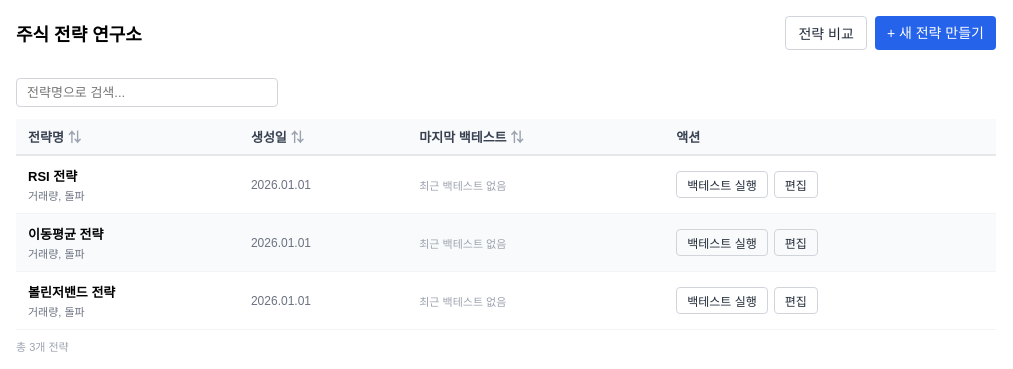
Scenario: StrategyListPage › 전략명 필터: 입력하면 일치하는 전략만 표시
In the field with test id "strategy-name-filter": (147, 93) top-left (16, 78), bottom-right (278, 107), type "RSI"
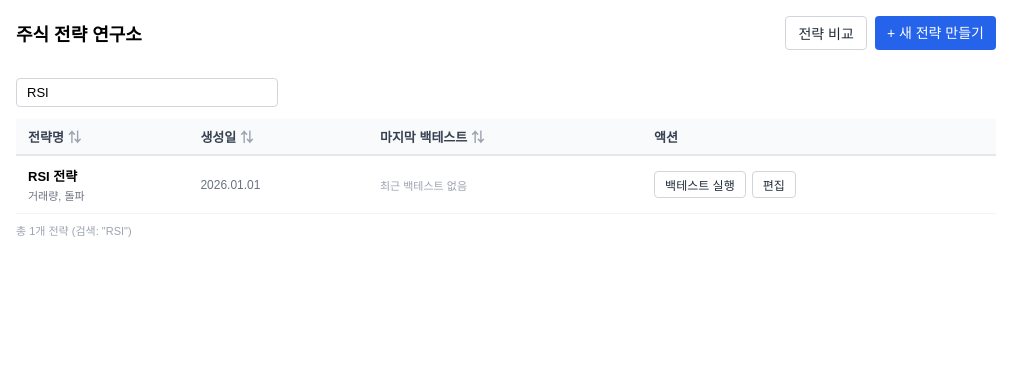
Expected: the text "RSI 전략" is shown, top-left (28, 169), bottom-right (77, 184)
Result: the text "이동평균 전략" is gone
Result: the text "볼린저밴드 전략" is gone
